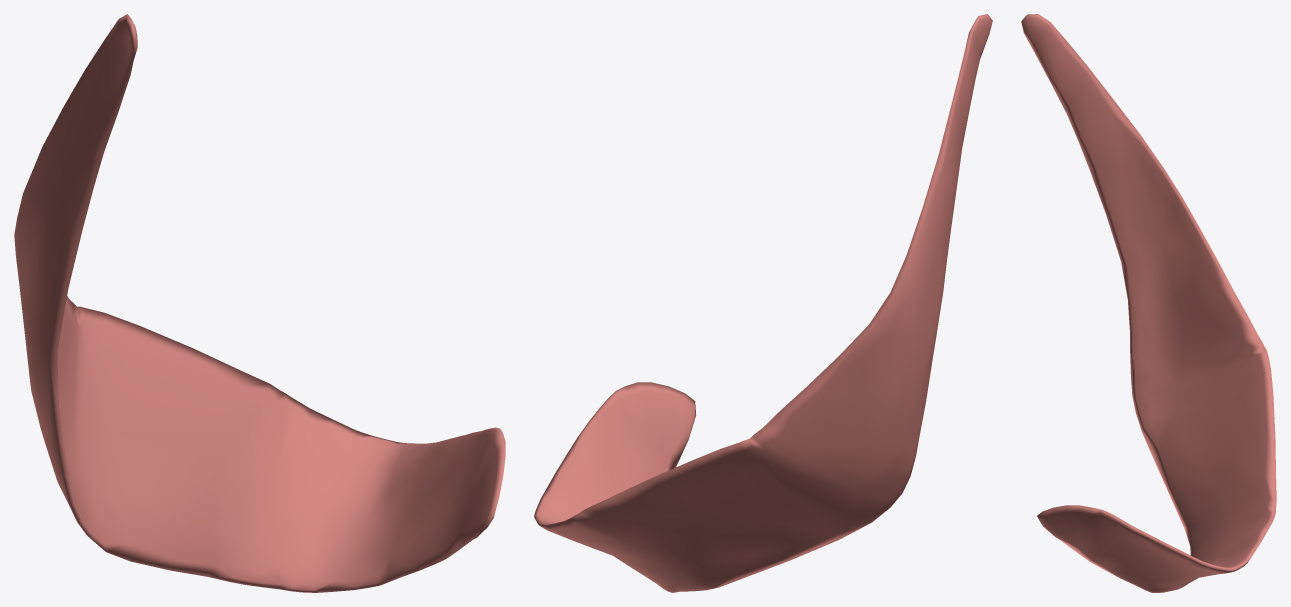
3 views of the same model, side by side, from view 1: azimuth 30°, elevation 25°; view 2: azimuth 150°, elevation 25°; view 3: azimuth 270°, elevation 25° (orthographic). The views are drawn at different scales.
Parts seen in each view (by area): view 1: ZA_f4ac3945d45b4038; view 2: ZA_f4ac3945d45b4038; view 3: ZA_f4ac3945d45b4038.
Boxes of the visible parts, x1,y1,x2,y2 form: ZA_f4ac3945d45b4038: (14, 14, 505, 592); ZA_f4ac3945d45b4038: (534, 14, 992, 592); ZA_f4ac3945d45b4038: (1021, 14, 1276, 592).
Size of the model in its own units: 0.0268 by 0.0418 by 0.0202.
